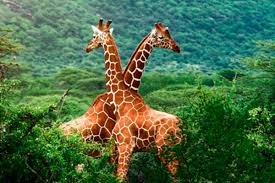Jirafa: (133, 7, 191, 68), (74, 14, 133, 63)
